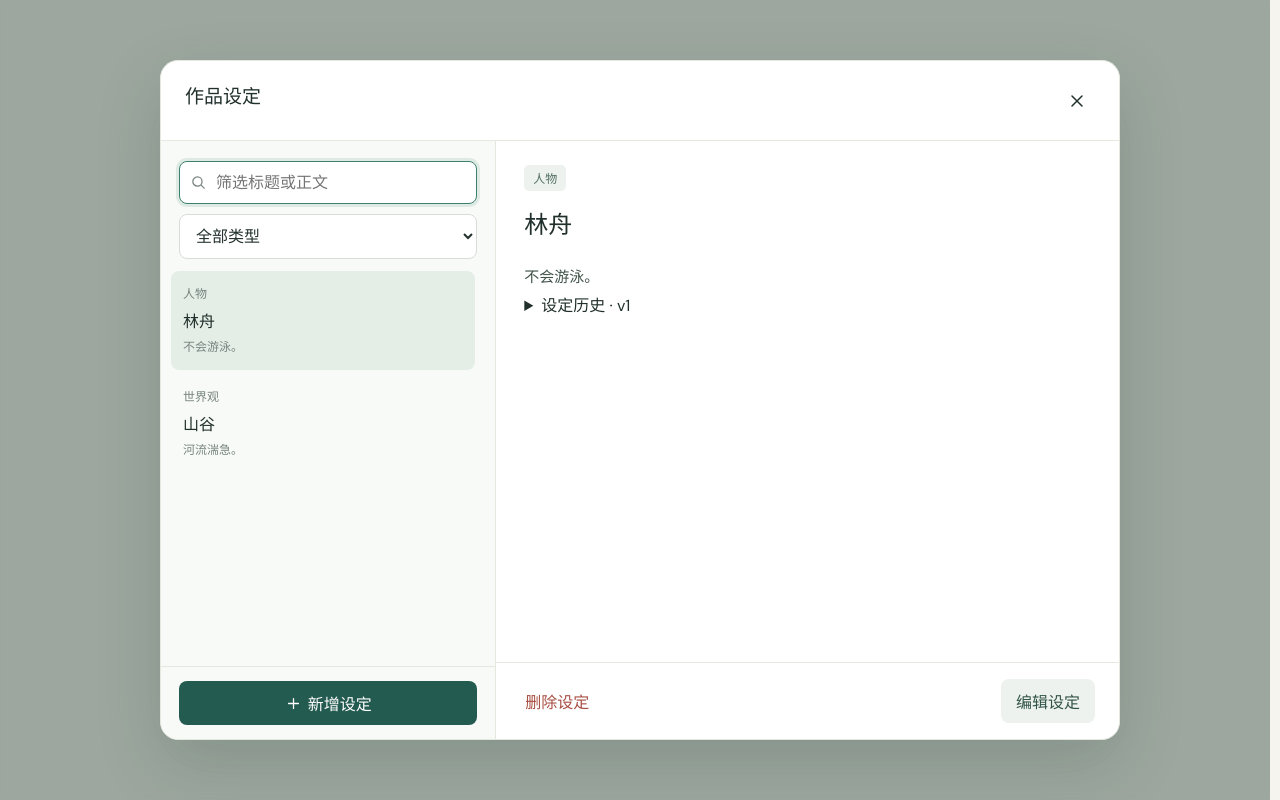
Test: creating and deleting refreshes the list without closing the dialog
This screenshot has width=1280, height=800.
Expected: the heading "林舟" is shown, [524,212,572,238]
Click the button "新增设定": (328, 703) [179,681,477,725]
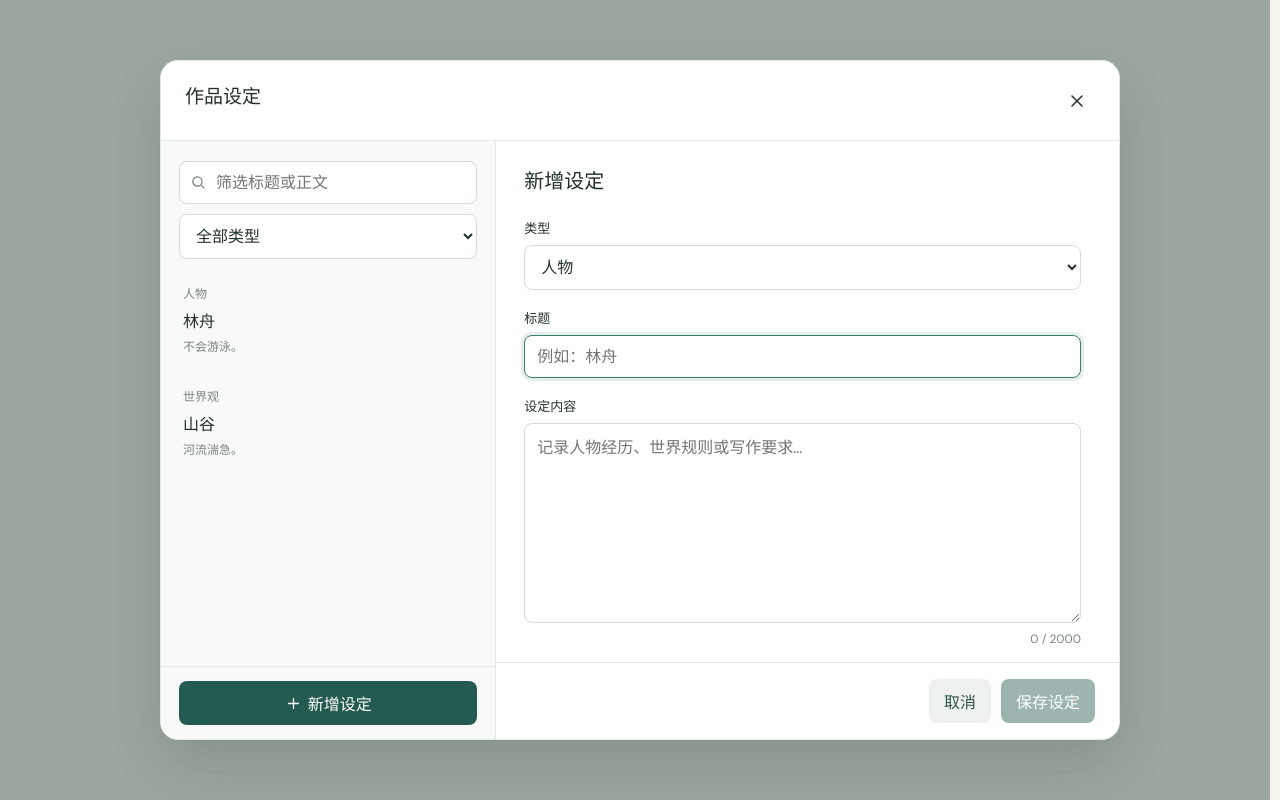
In the field labelled "标题": (803, 356) [524,335,1081,378], type "写作风格"
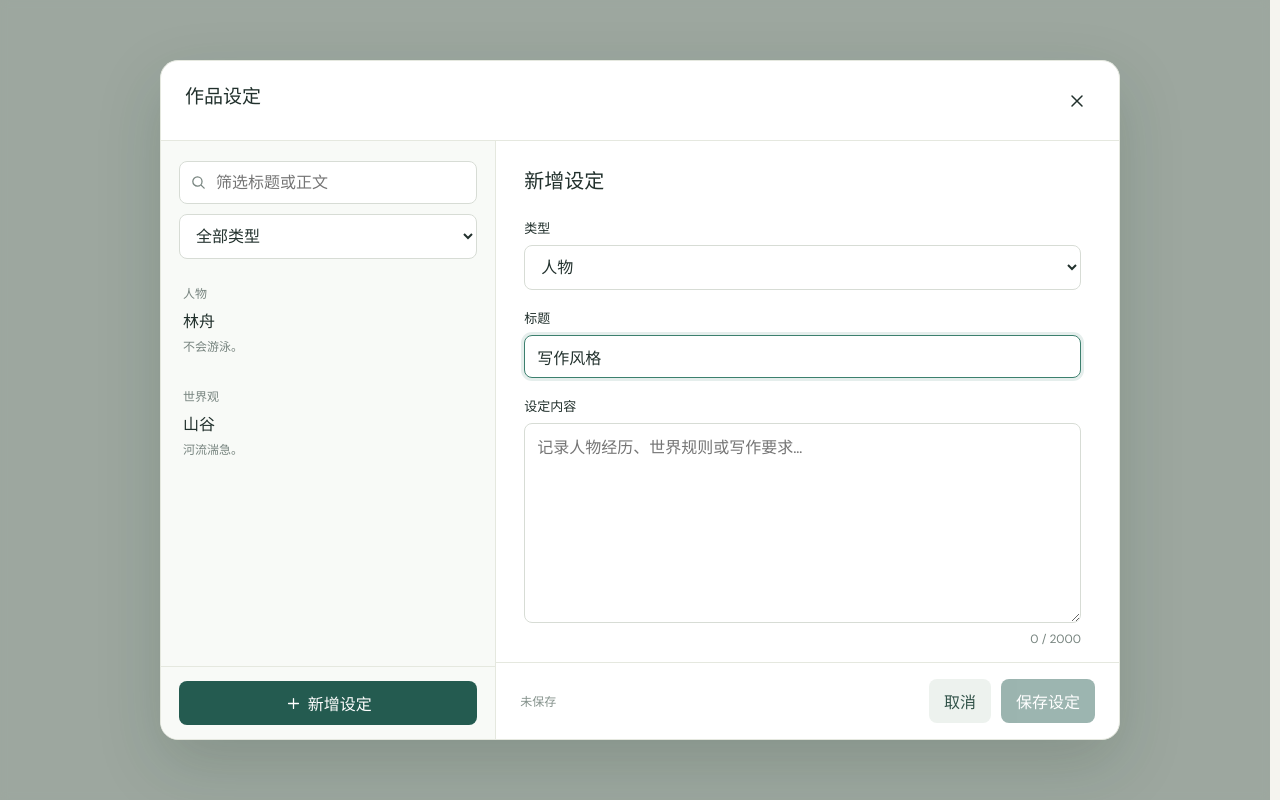
Select "写作约束" in the dropdown labelled "类型": (803, 268) [524,245,1081,290]
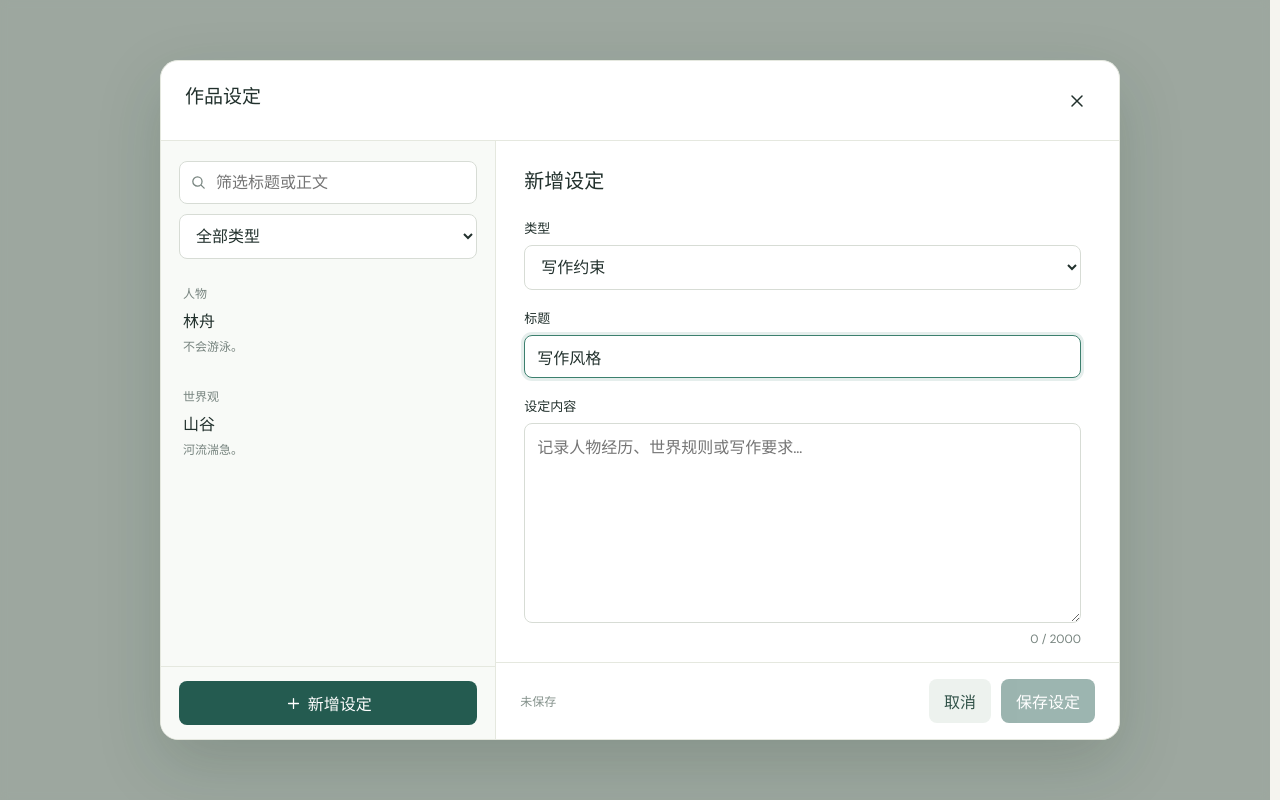
In the text box labelled "设定内容": (803, 523) [524,423,1081,623], type "保持第三人称叙述。"
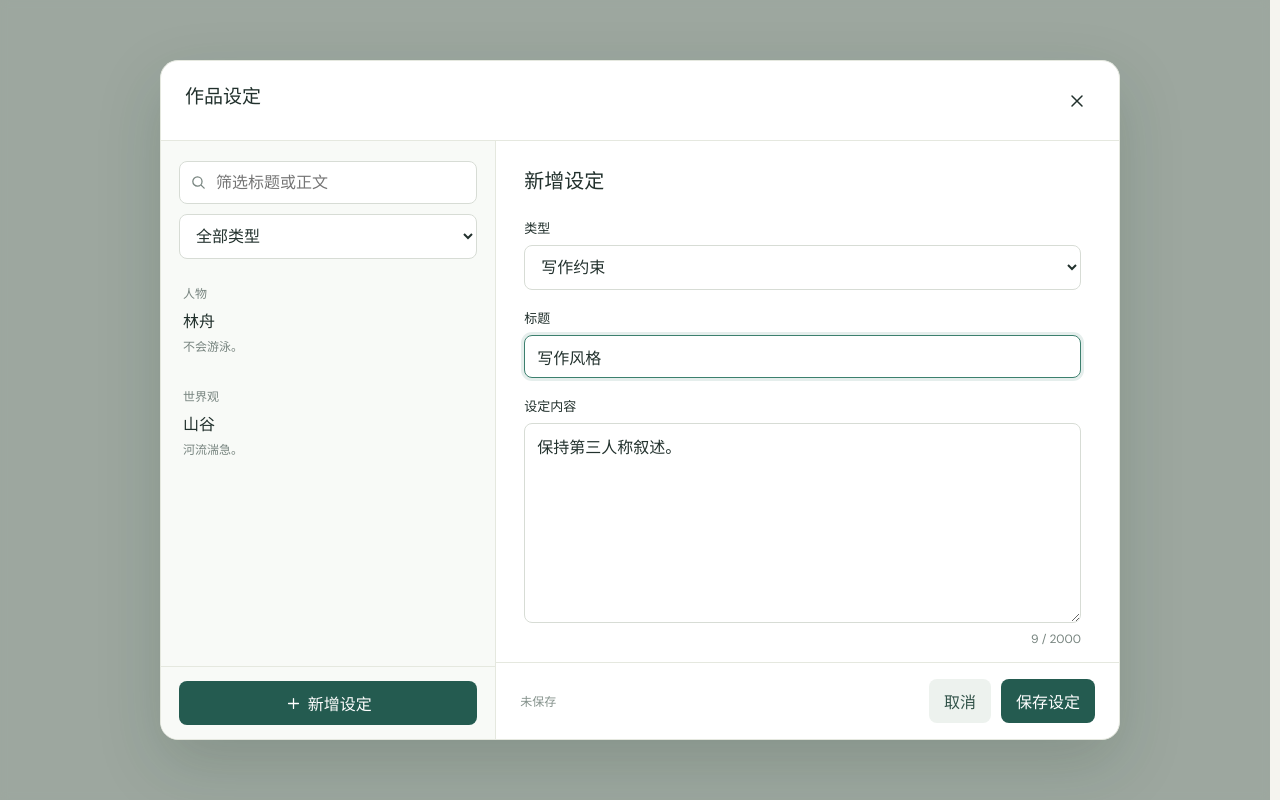
Click the button "保存设定": (1048, 701) [1001,679,1095,723]
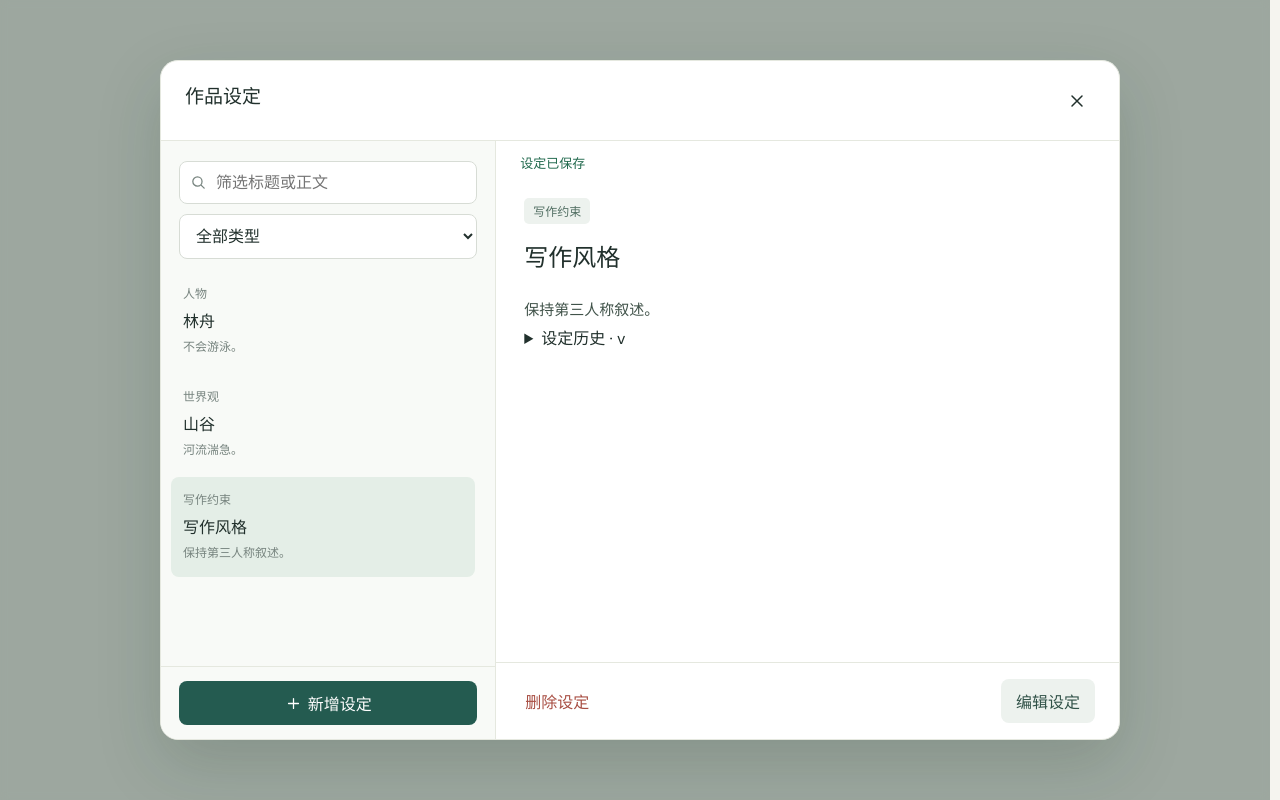
Now the heading "写作风格" is shown, box [524,245,620,271]
Click the button "删除设定": (557, 701) [520,686,594,716]
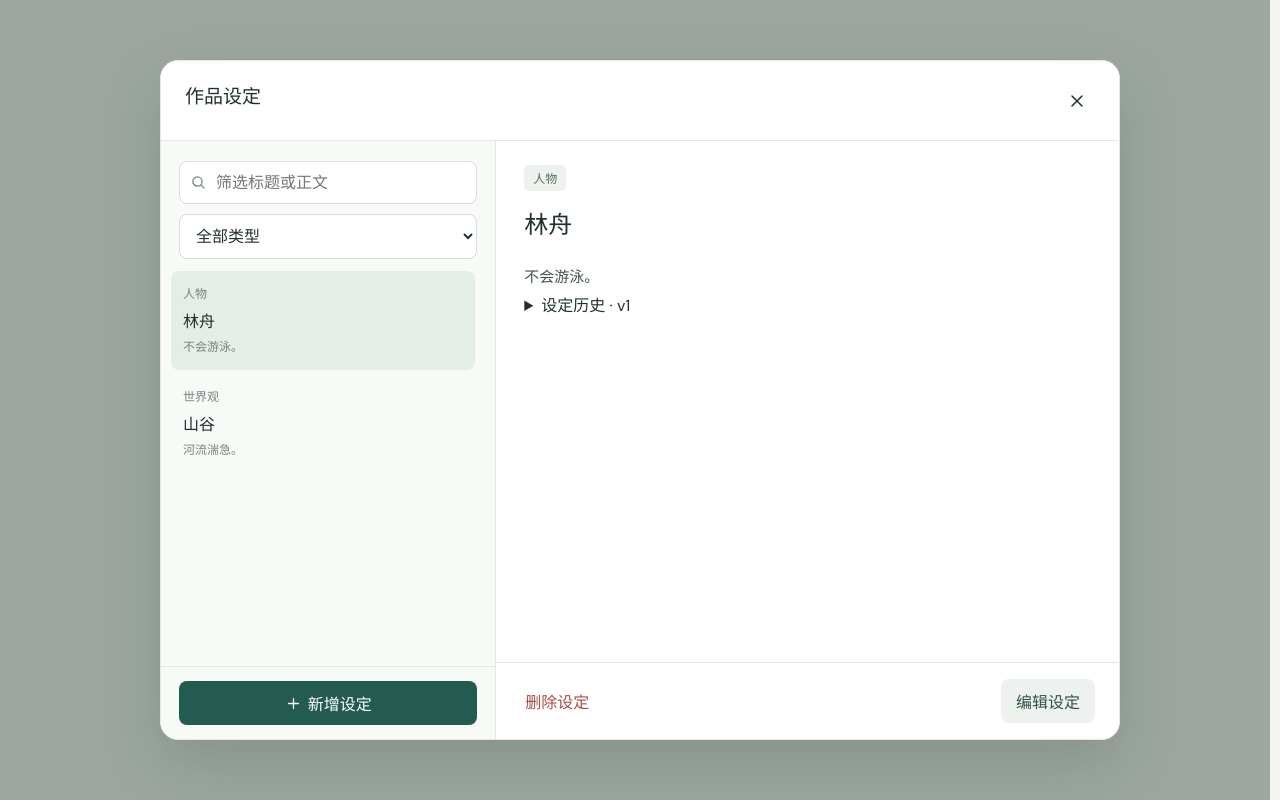
Now the button "写作风格" is gone
